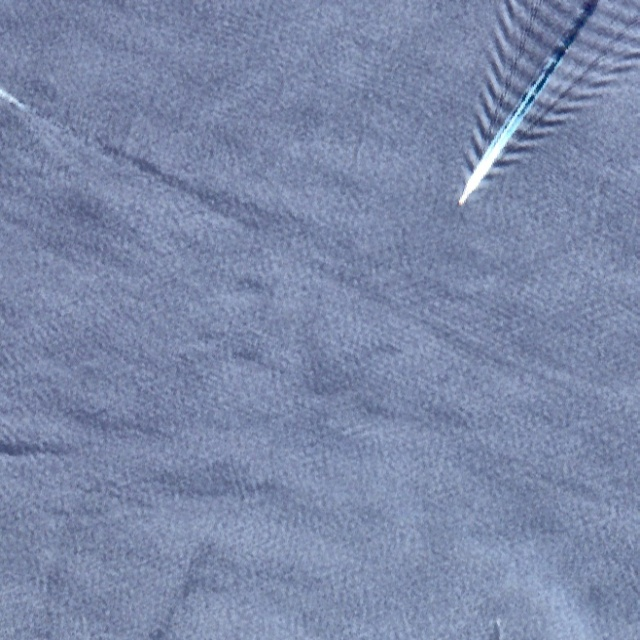wake: (414, 26, 599, 235)
